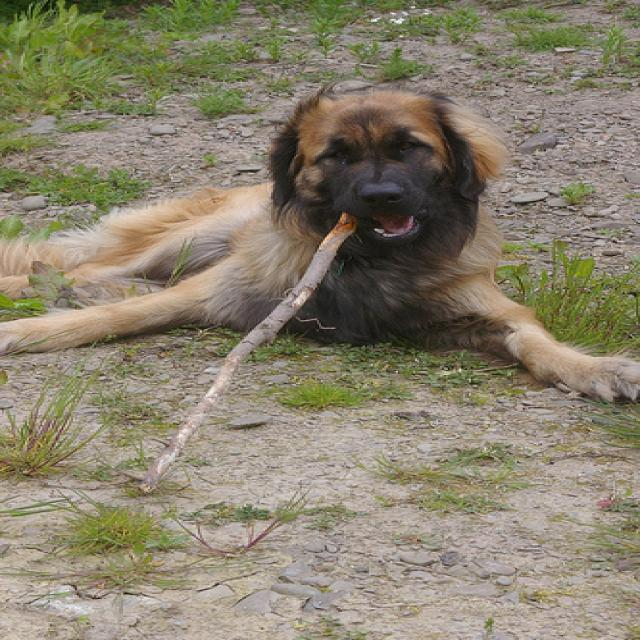dog: (267, 87, 484, 248)
